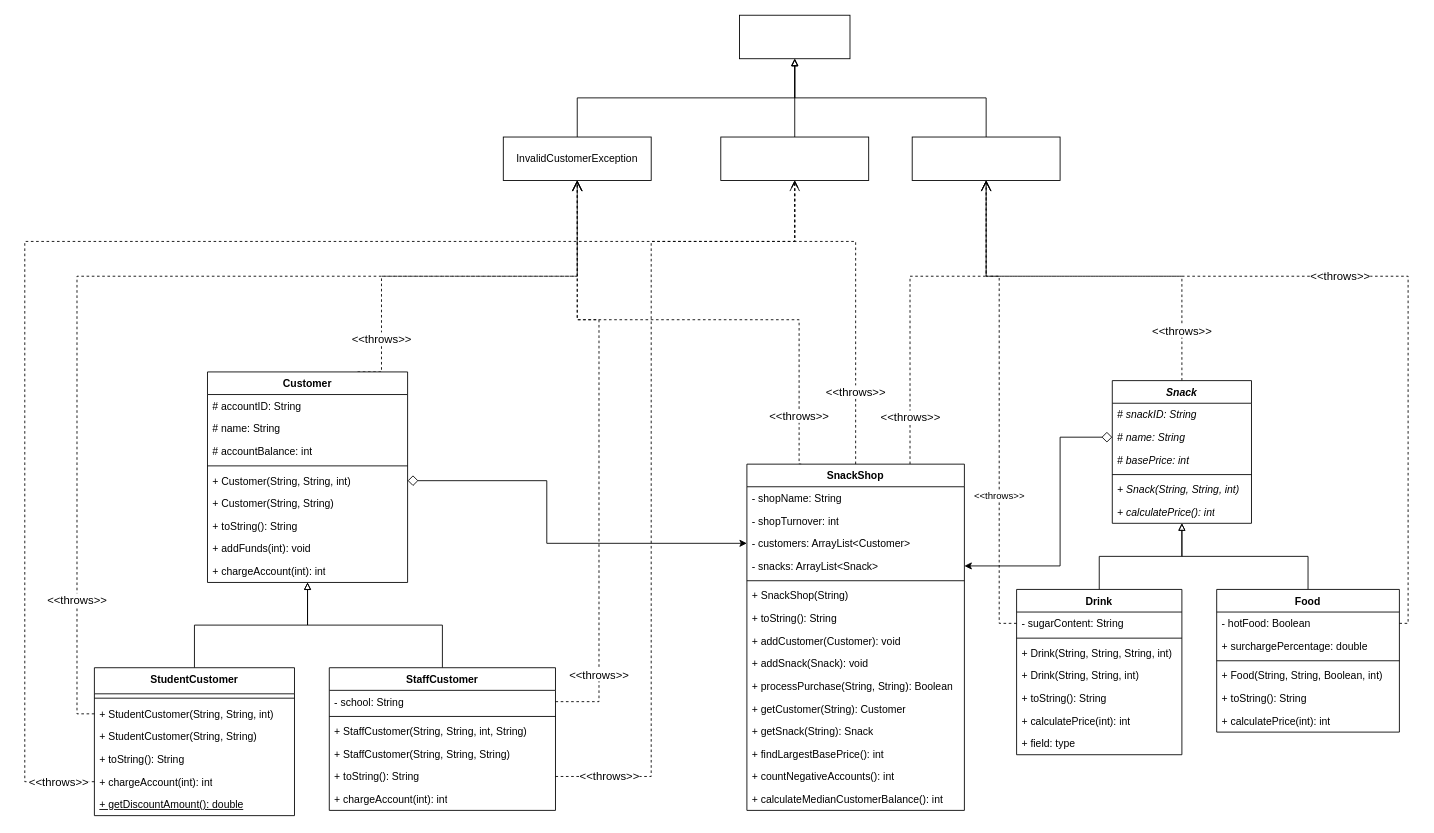
Some shapes in this 1434 by 833 pixel diagram are drawn without their labels. Each missing label, with the centre of its shape:
InsufficientBalanceException: the point at 794,158
InvalidSnackException: the point at 985,158
Java.lang.Exception: the point at 794,36
